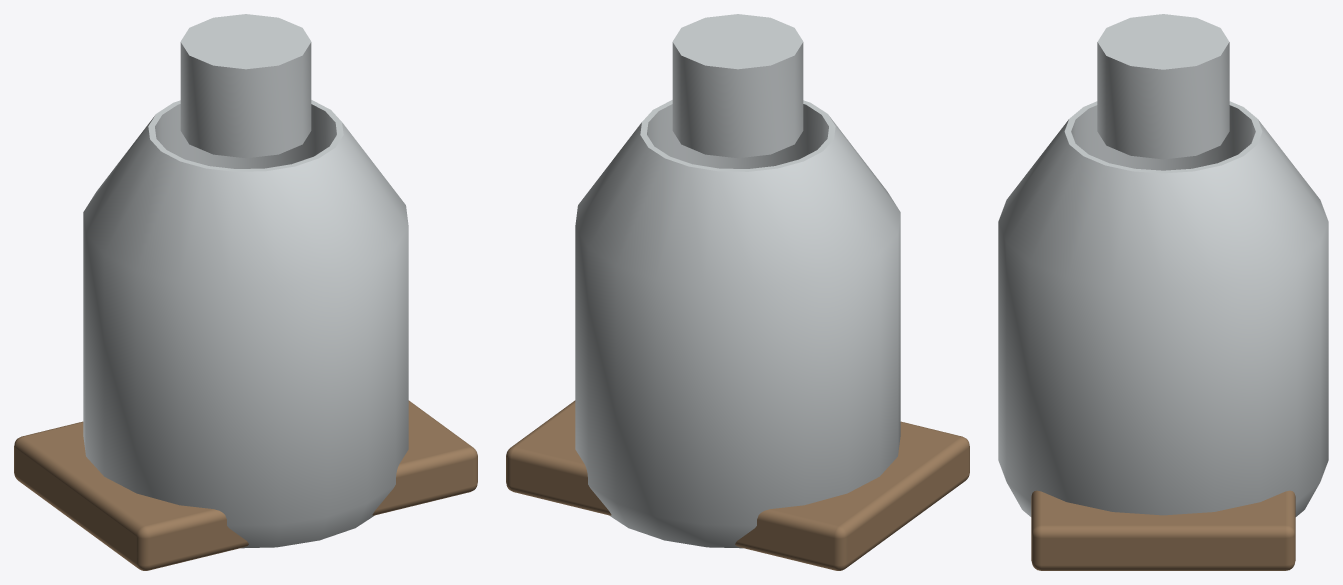
Rendered from geotechnical-soil-testing-laboratory-specific-gravity--670ba283__39074.glb.
The picture shows the model from 3 angles, left to right: view 1: azimuth 30°, elevation 25°; view 2: azimuth 150°, elevation 25°; view 3: azimuth 270°, elevation 25°; orthographic projection.
Visible parts, largest first — view 1: specific-gravity-pycnometer; view 2: specific-gravity-pycnometer; view 3: specific-gravity-pycnometer.
Part boxes in pixels (<box>): specific-gravity-pycnometer: <box>14,14,477,570</box>; specific-gravity-pycnometer: <box>506,14,969,570</box>; specific-gravity-pycnometer: <box>998,14,1328,570</box>.
Size of the model in its own units: 0.12 by 0.15 by 0.1.
